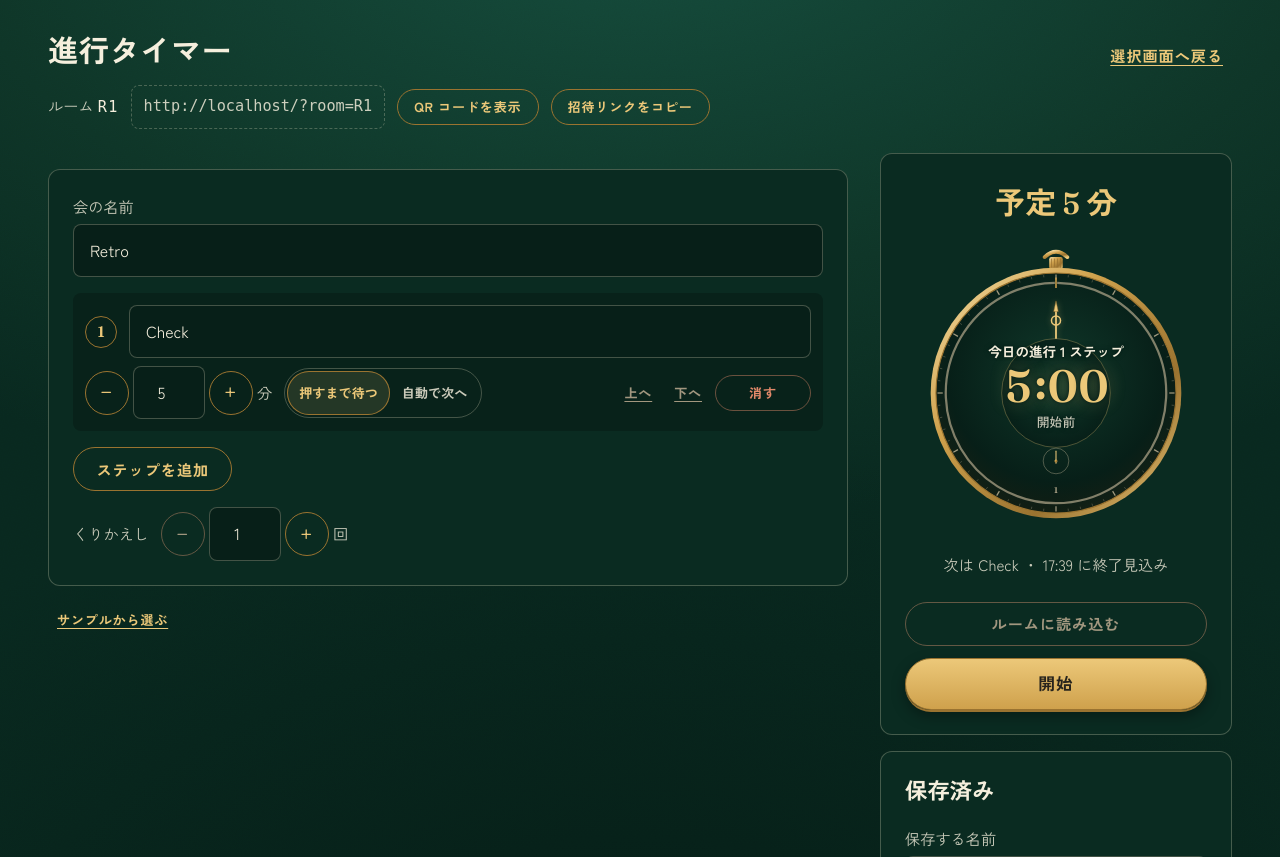
サンプルから選ぶ › Given ルームにシナリオがある / When 組む画面を開く / Then 「サンプルから選ぶ」がある（これまでは空のときだけだった）
The image size is (1280, 857).
Step 1. Click the button "サンプルから選ぶ" → x=113, y=620, box [48,602,177,638]
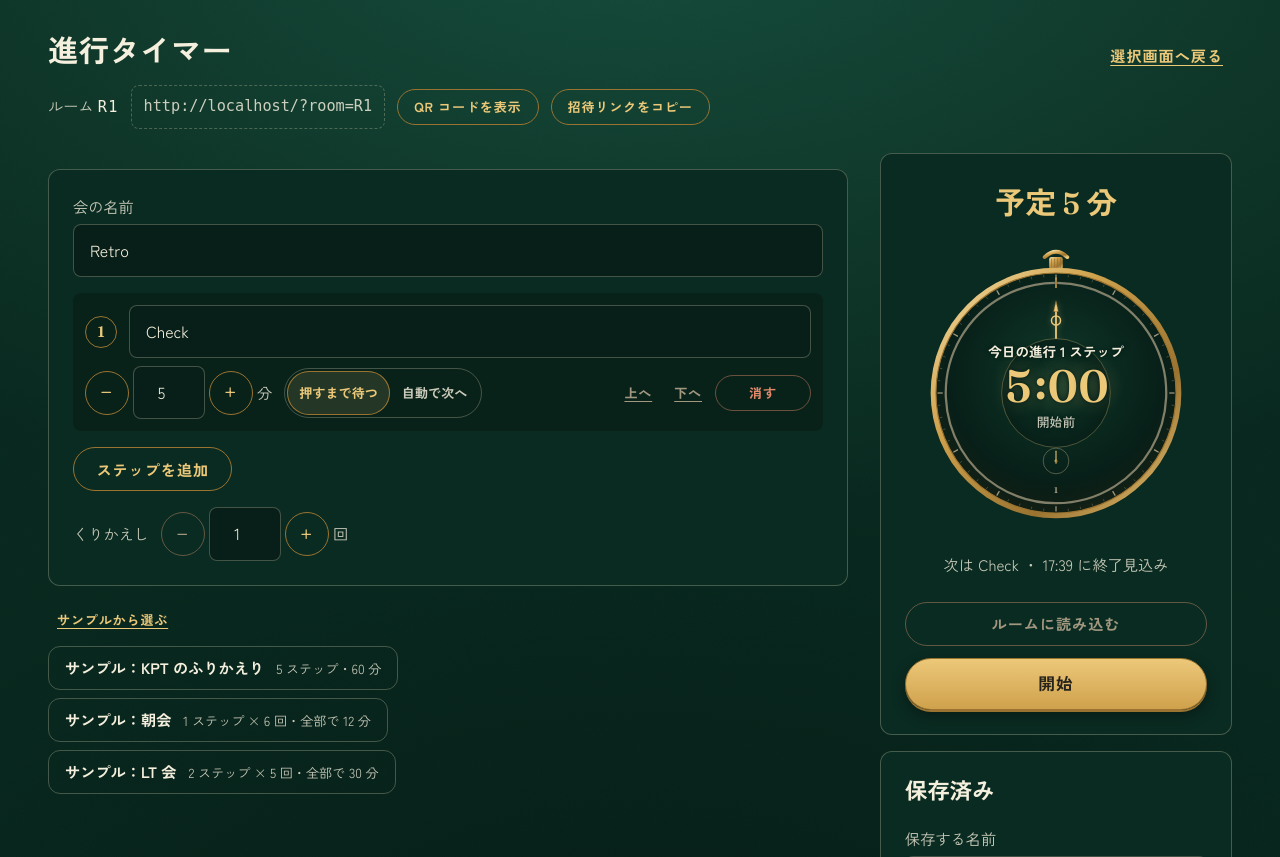
Now the number of buttons "サンプル：KPT のふりかえり 5 ステップ・60 分" is 3, box [48,646,398,690]; [48,698,388,742]; [48,750,396,794]
